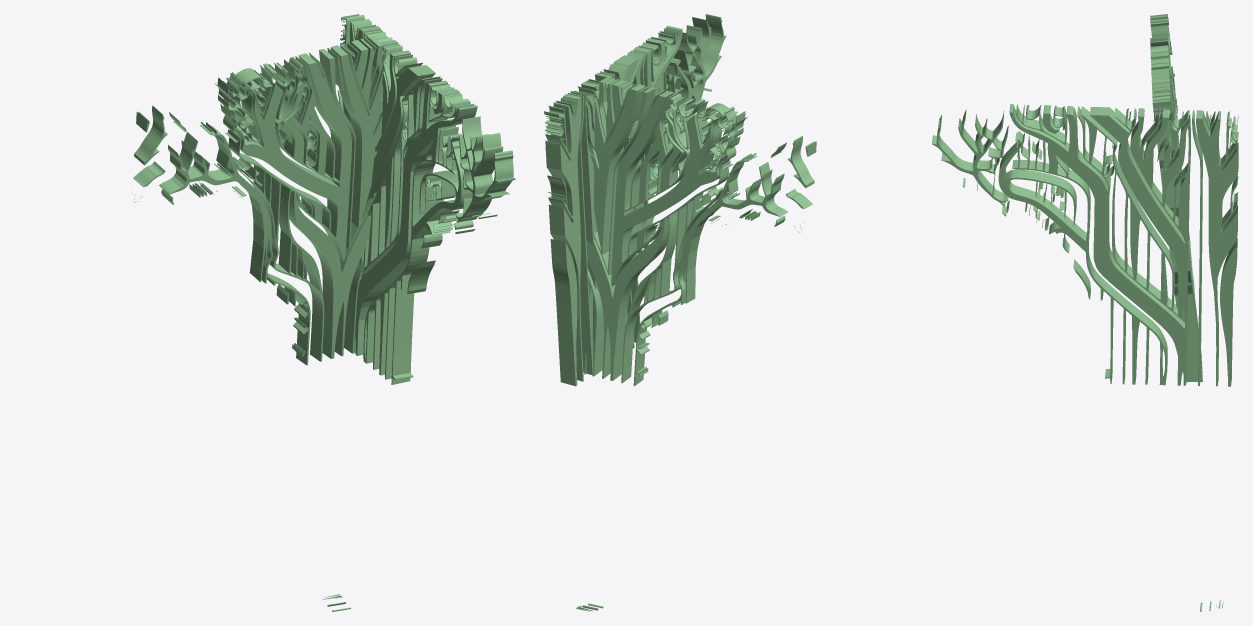
The picture shows the model from 3 angles, left to right: view 1: azimuth 30°, elevation 25°; view 2: azimuth 150°, elevation 25°; view 3: azimuth 270°, elevation 25°; orthographic projection. The views are drawn at different scales.
Visible parts, largest first — view 1: Mesh_Mesh_head_geo.001_lambert2SG.001; view 2: Mesh_Mesh_head_geo.001_lambert2SG.001; view 3: Mesh_Mesh_head_geo.001_lambert2SG.001.
Boxes of the visible parts, <box> form: Mesh_Mesh_head_geo.001_lambert2SG.001: <box>131,14,515,611</box>; Mesh_Mesh_head_geo.001_lambert2SG.001: <box>544,14,816,611</box>; Mesh_Mesh_head_geo.001_lambert2SG.001: <box>932,14,1238,611</box>.
Bounding box in the file's own units: 215 × 317 × 172.
